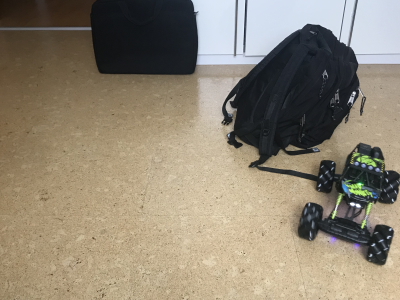remote control car: (295, 139, 400, 267)
